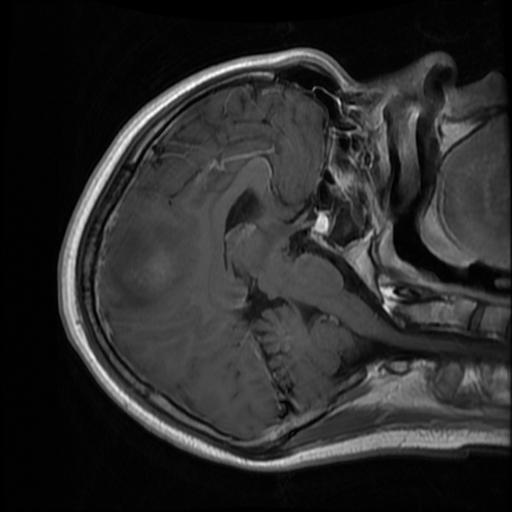glioma: (99, 225, 195, 308)
